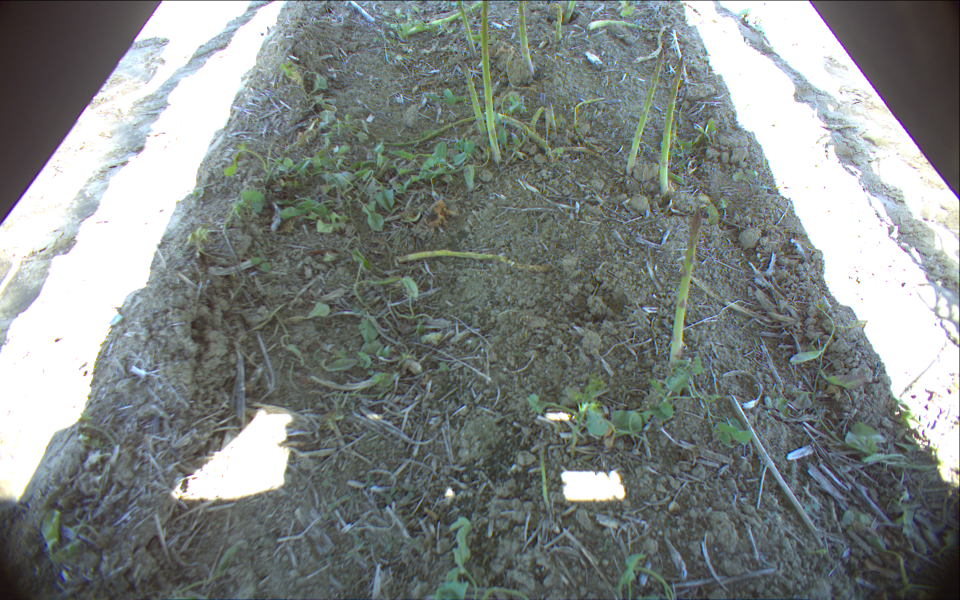aspa: (668, 205, 705, 377), (621, 50, 665, 177), (478, 1, 505, 165), (657, 54, 685, 198), (454, 53, 486, 139), (515, 1, 536, 79), (454, 1, 479, 53), (551, 1, 567, 40)
